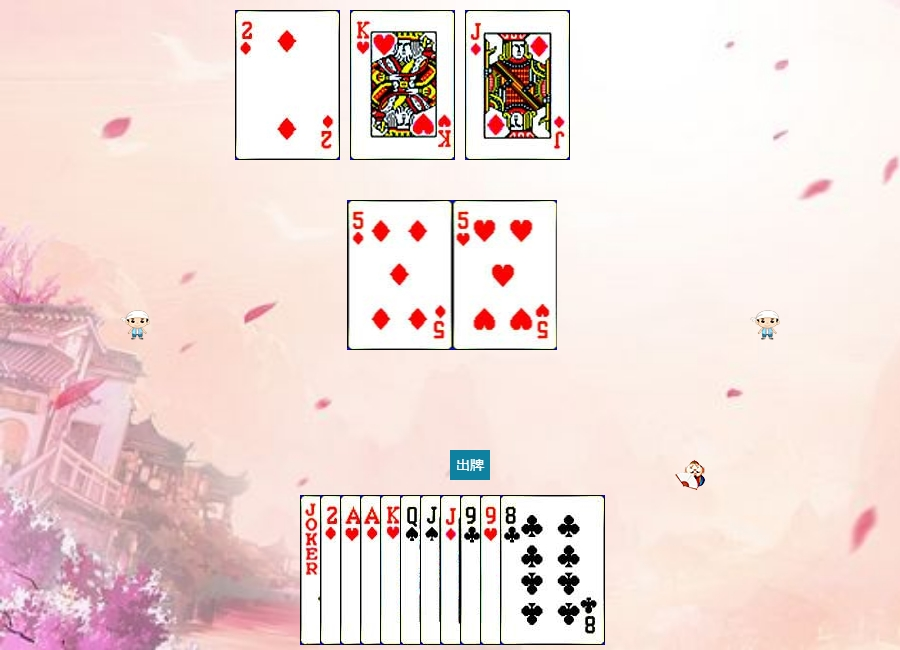11~1: (465, 10, 570, 160), (440, 495, 545, 645)
11~4: (420, 495, 525, 645)
12~4: (400, 495, 505, 645)
13~3: (350, 10, 455, 160), (380, 495, 485, 645)
14~1: (360, 495, 465, 645)
14~3: (340, 495, 445, 645)
15~1: (235, 10, 340, 160), (320, 495, 425, 645)
18~4: (300, 495, 405, 645)
5~1: (348, 200, 453, 350)
5~3: (453, 200, 558, 350)
8~2: (500, 495, 605, 645)
9~2: (460, 495, 565, 645)
9~3: (480, 495, 585, 645)
